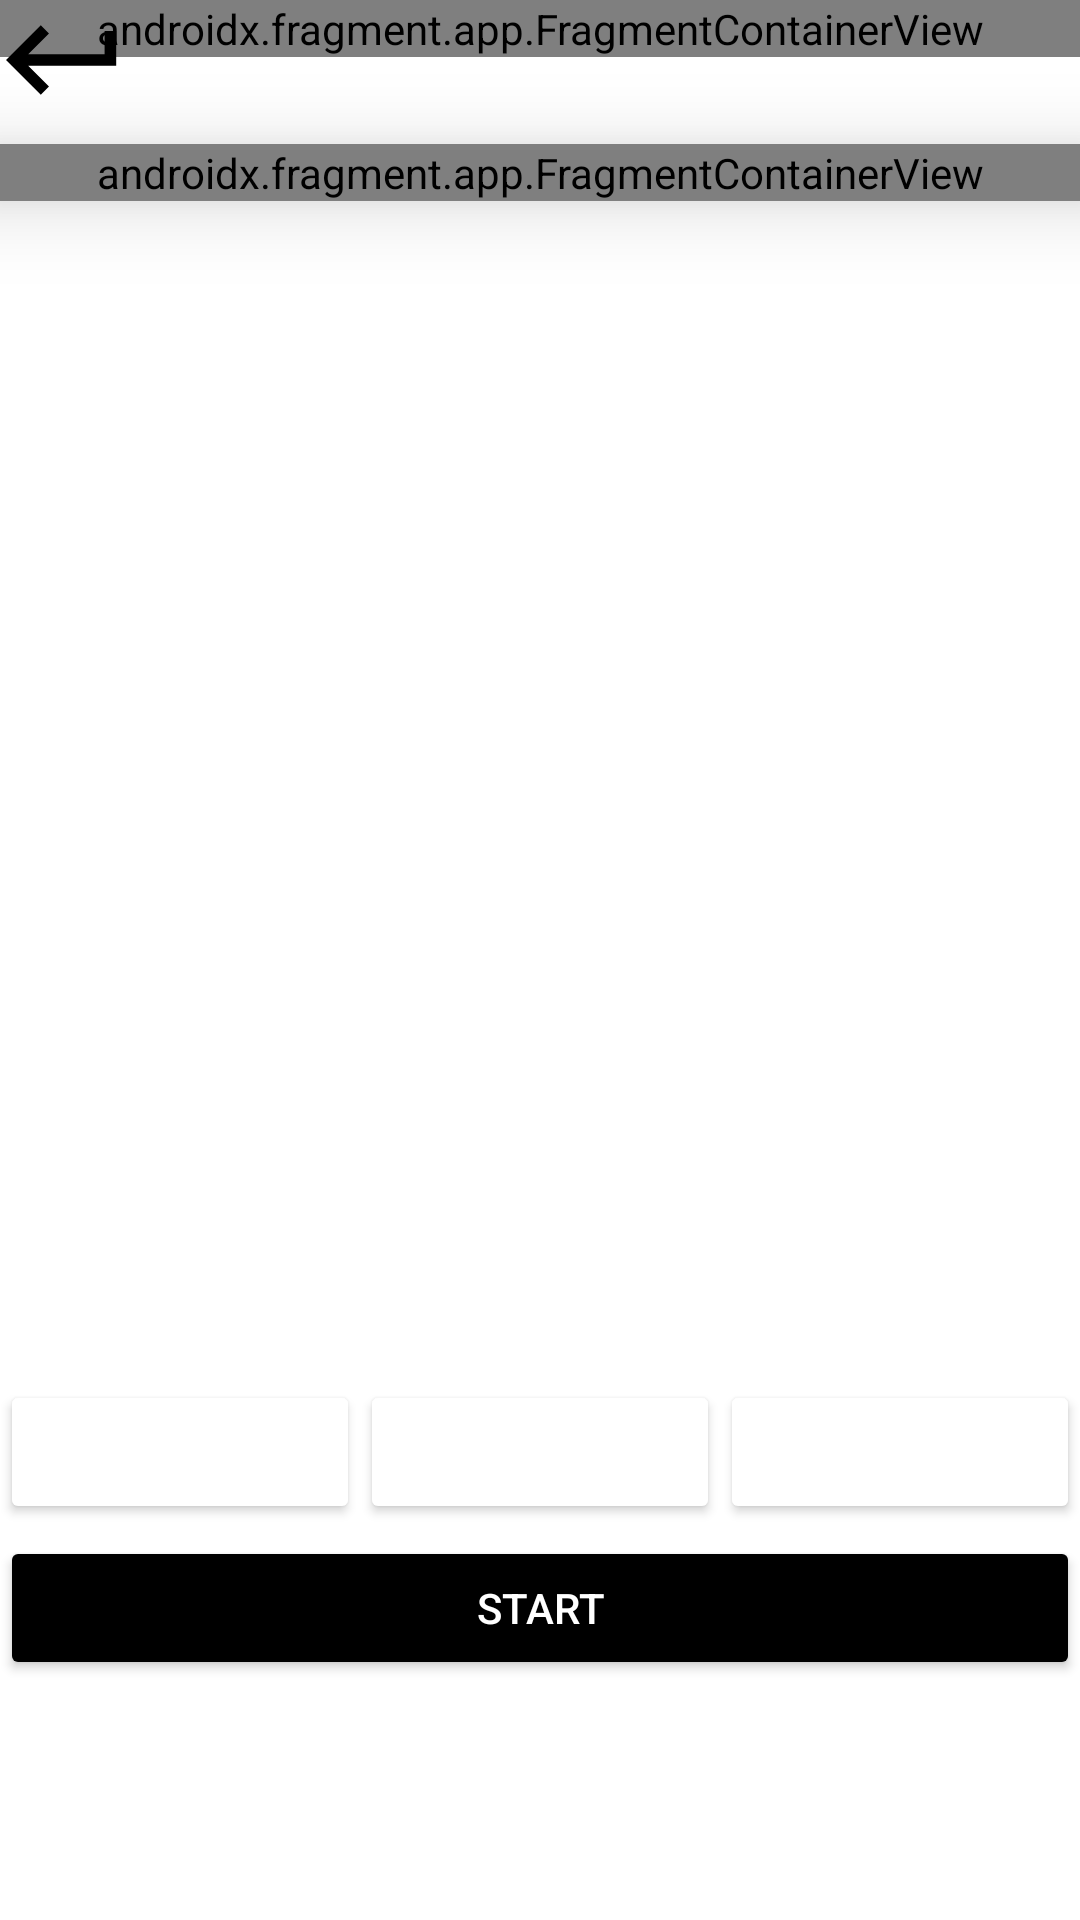

Icon click points for this 1080px x 1920px phone screenshot, format point (x, y):
Back: point (68, 60)
